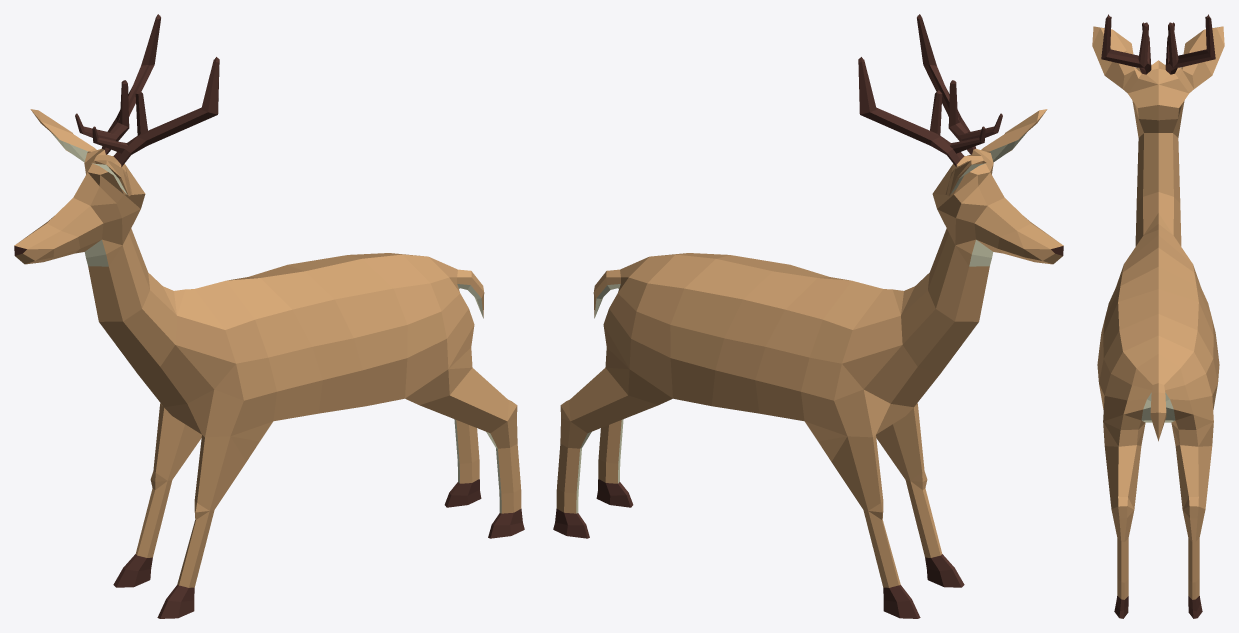
The model's file is yes_horn_deer.fbx.
3 views of the same model, side by side, from view 1: azimuth 30°, elevation 25°; view 2: azimuth 150°, elevation 25°; view 3: azimuth 270°, elevation 25° (orthographic). The views are drawn at different scales.
Parts seen in each view (by area): view 1: Cylinder.002; view 2: Cylinder.002; view 3: Cylinder.002.
Part boxes in pixels (x1,y1,x2,y2): Cylinder.002: (14, 14, 524, 618); Cylinder.002: (553, 14, 1063, 618); Cylinder.002: (1092, 14, 1224, 618).
Bounding box in the file's own units: 1077 × 1173 × 297.
